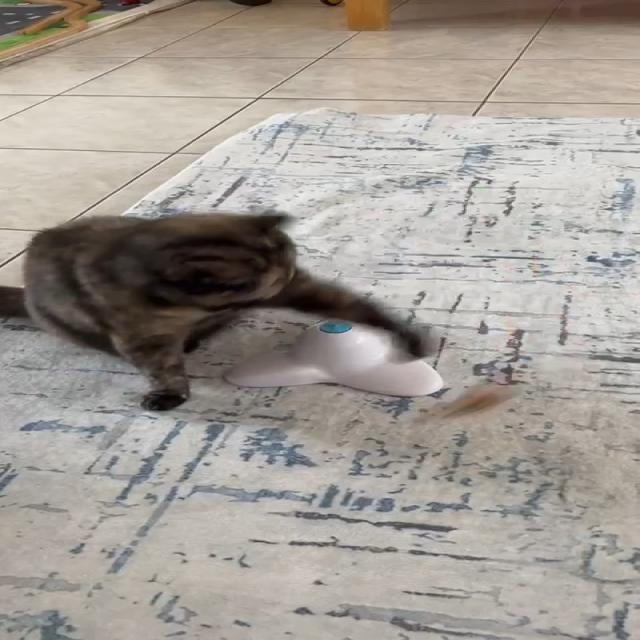authorized: (0, 210, 427, 412)
